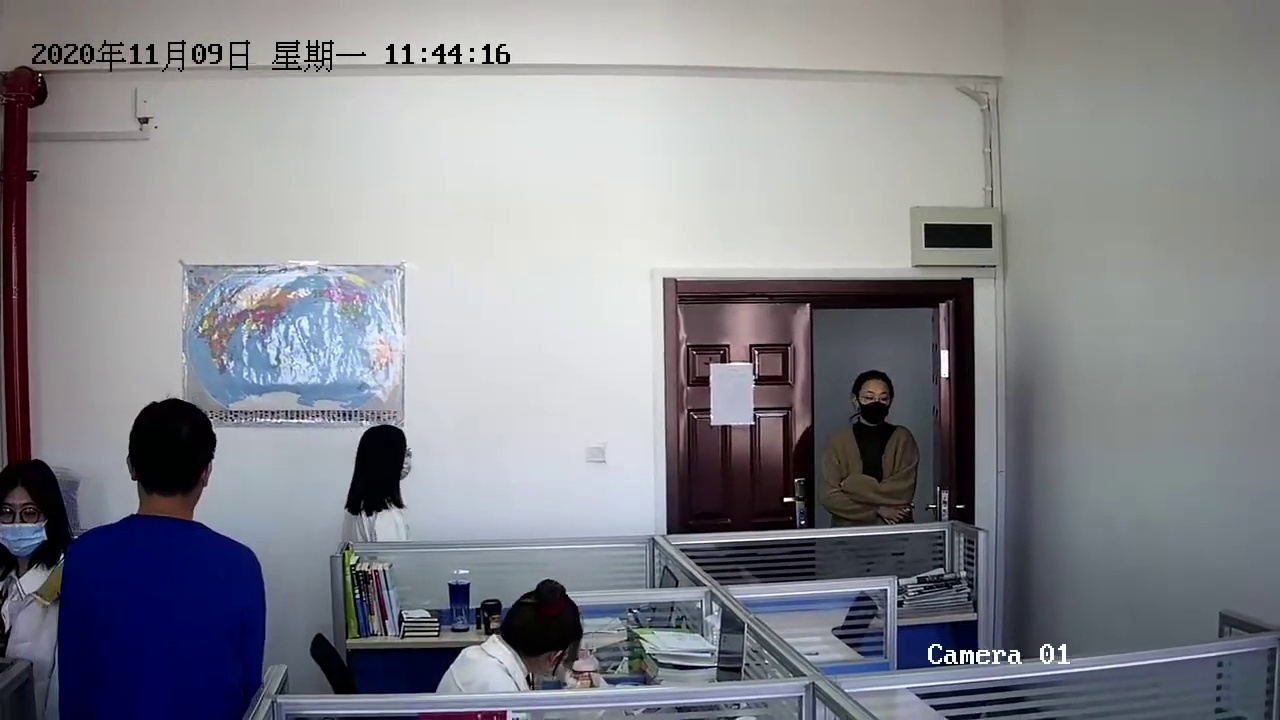mask: (3, 470, 62, 571), (359, 419, 418, 509), (850, 369, 897, 433)
